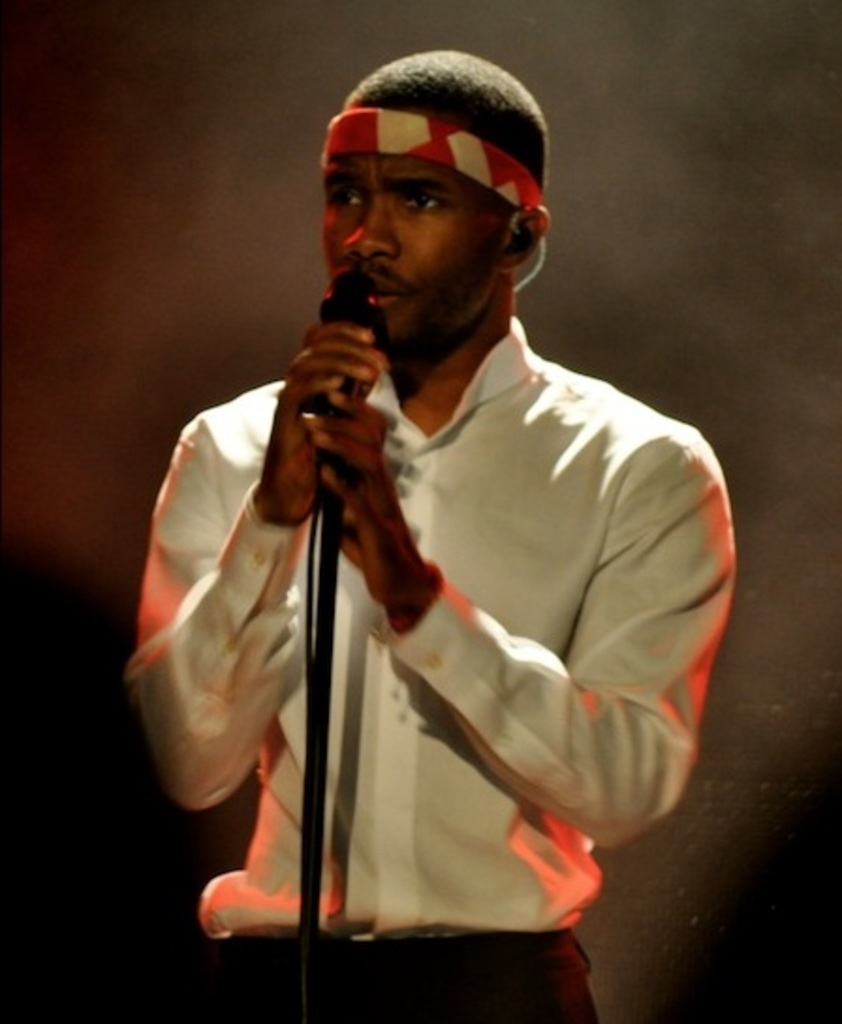Human_hand: (297, 381, 438, 614)
